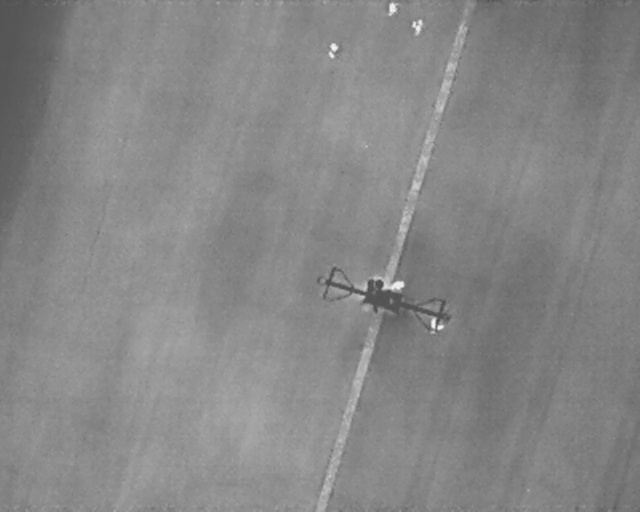Person: (429, 317, 445, 336), (325, 40, 340, 60), (389, 278, 407, 291), (385, 1, 399, 17), (411, 19, 423, 37)
